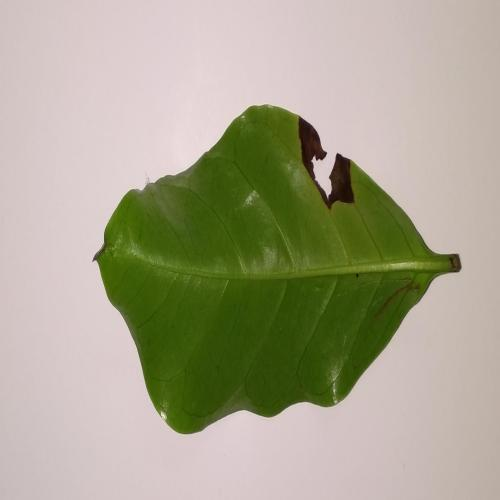miner: (298, 116, 354, 209)
